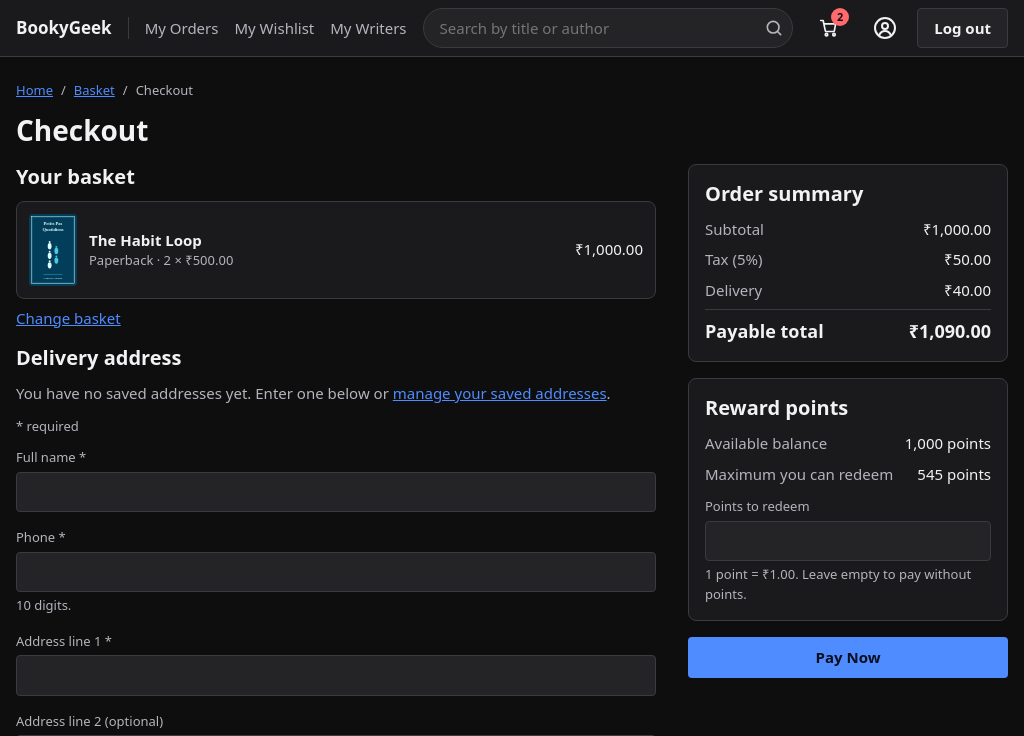
Test: CheckoutPage reward points › accepts exactly the maximum and leaves an amount to pay (FR-RWD-03)
Type "545" into the field labelled "Points to redeem" at (848, 541), box [705, 520, 991, 561]
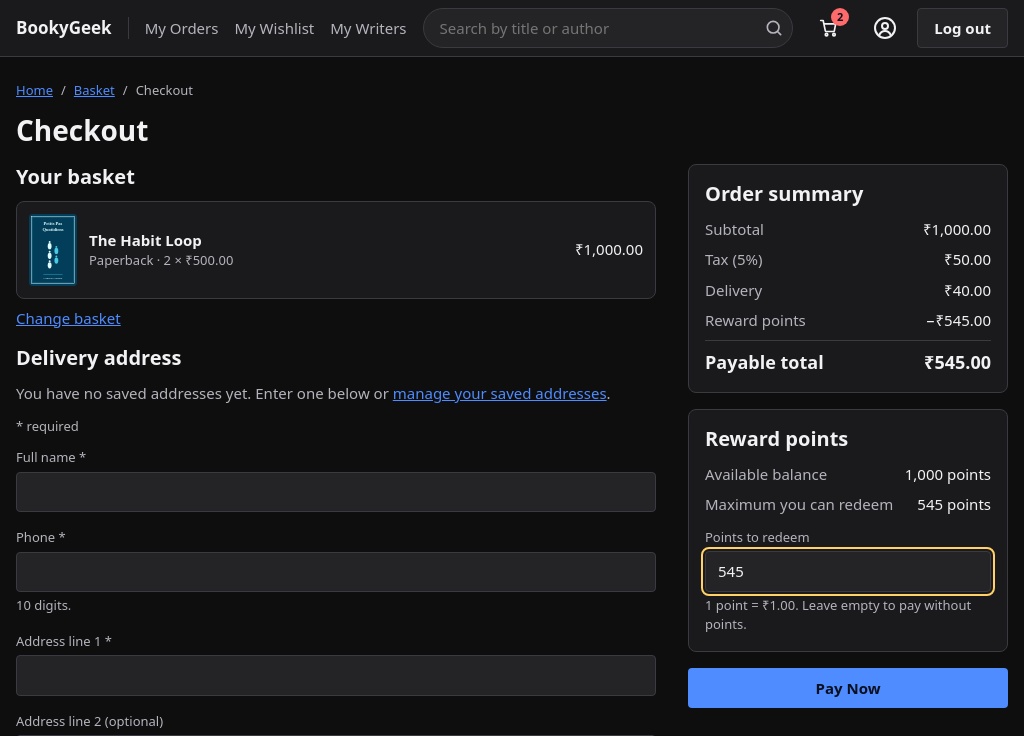
Check: the button "Pay Now" is enabled, box [688, 668, 1008, 708]
Check: the text "₹545.00" is shown, box [924, 348, 991, 376]
